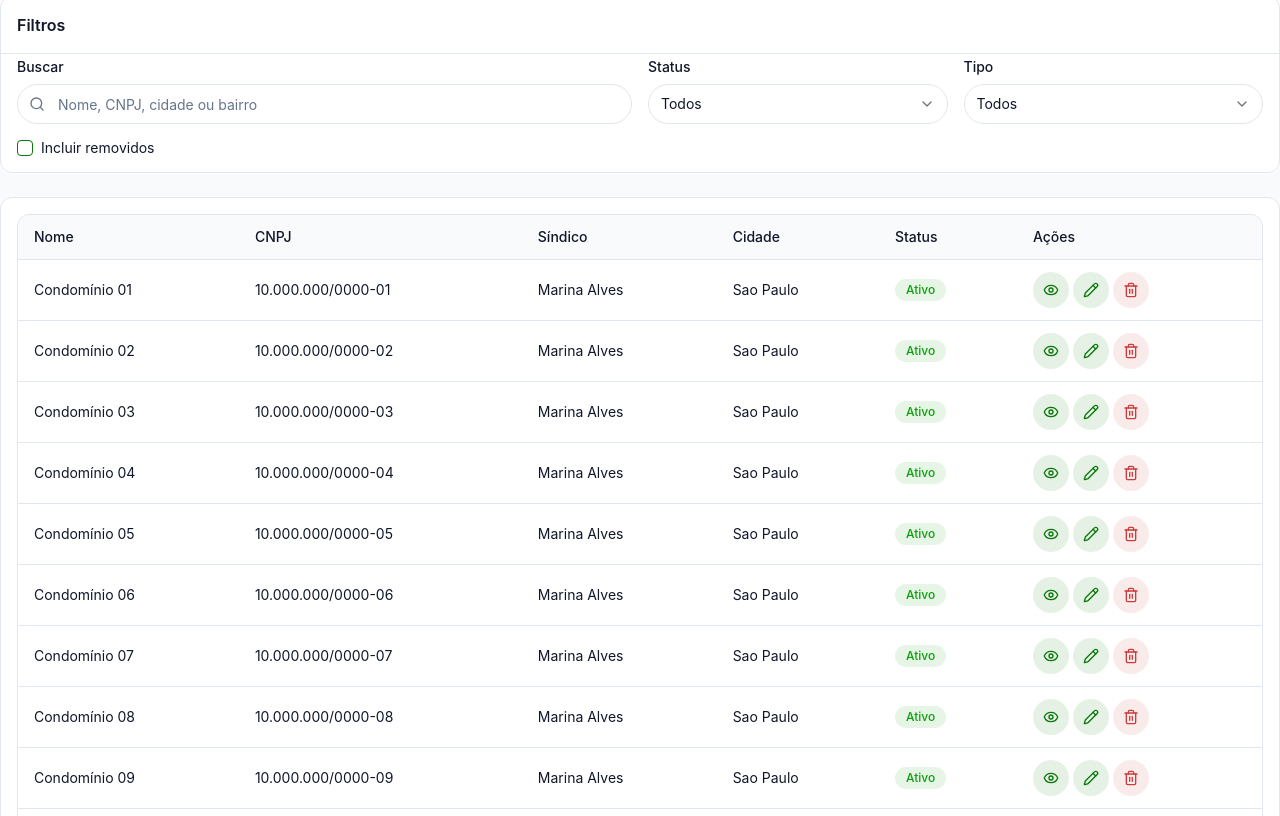
Listagem de condomínios › IT-001: percorre busca, ordenação e paginação preservando os parametros
Expected: the text "Condomínio 01" is shown, [34, 280, 132, 300]
In the field labelled "Buscar": (324, 104) [17, 84, 632, 124], type "Condomínio"
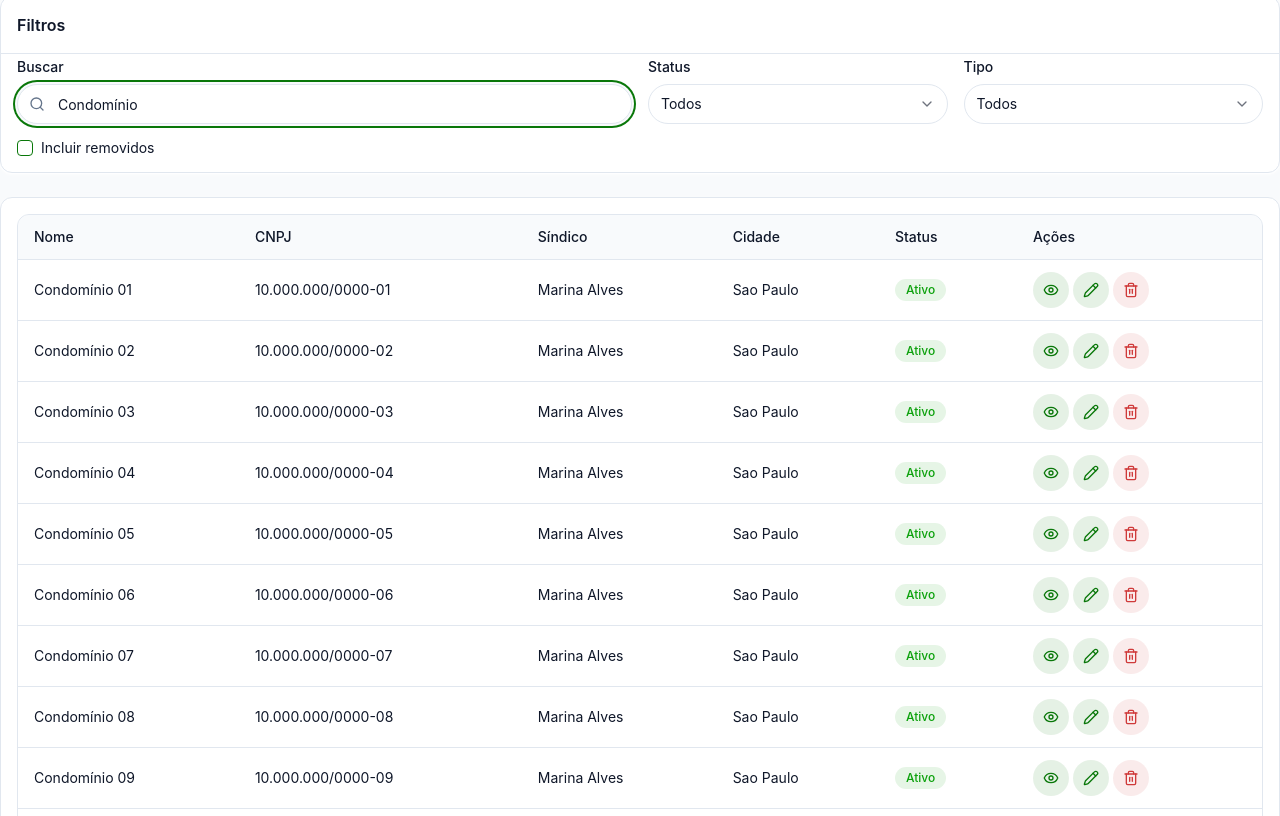
Click the button "Nome": (54, 237) [34, 227, 74, 247]
(page scrolled)
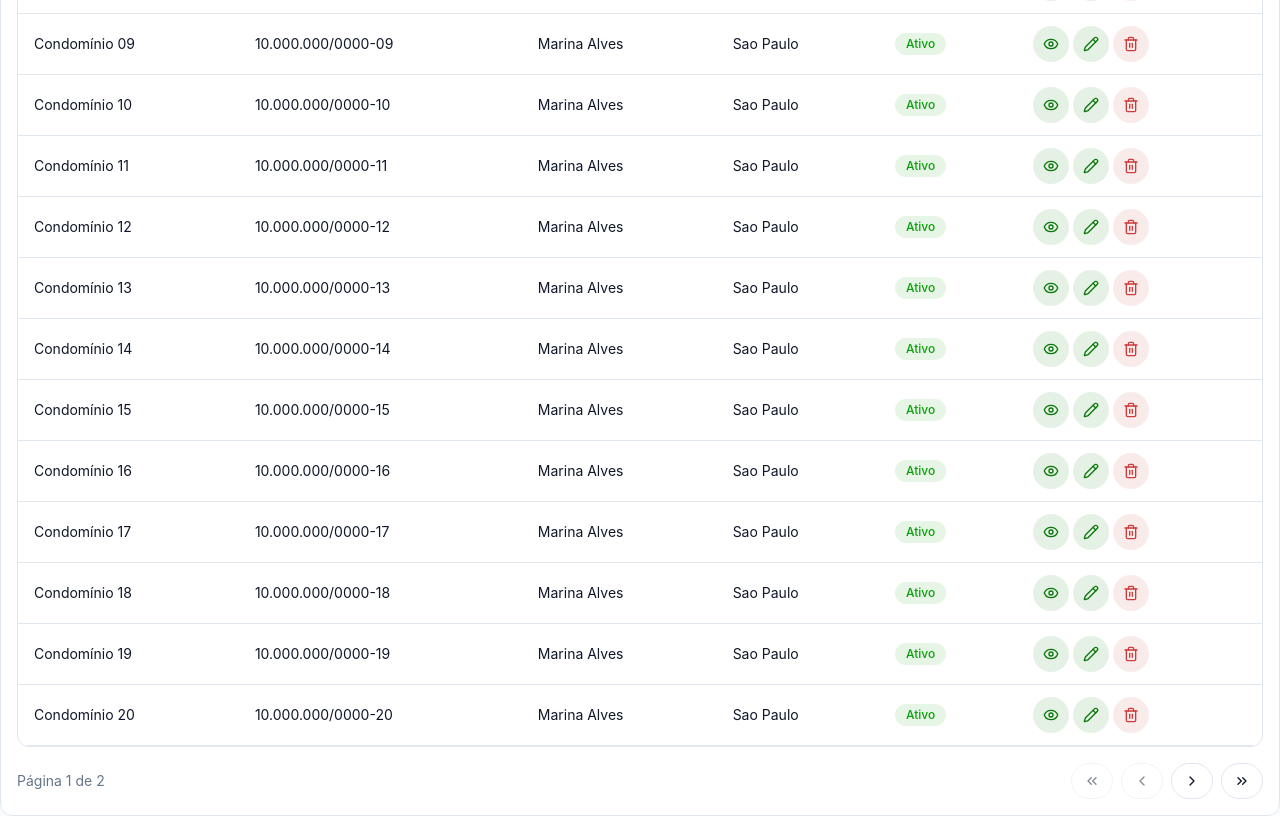
Click the button named "Próxima página": (1192, 781) [1171, 763, 1213, 799]
(page scrolled)
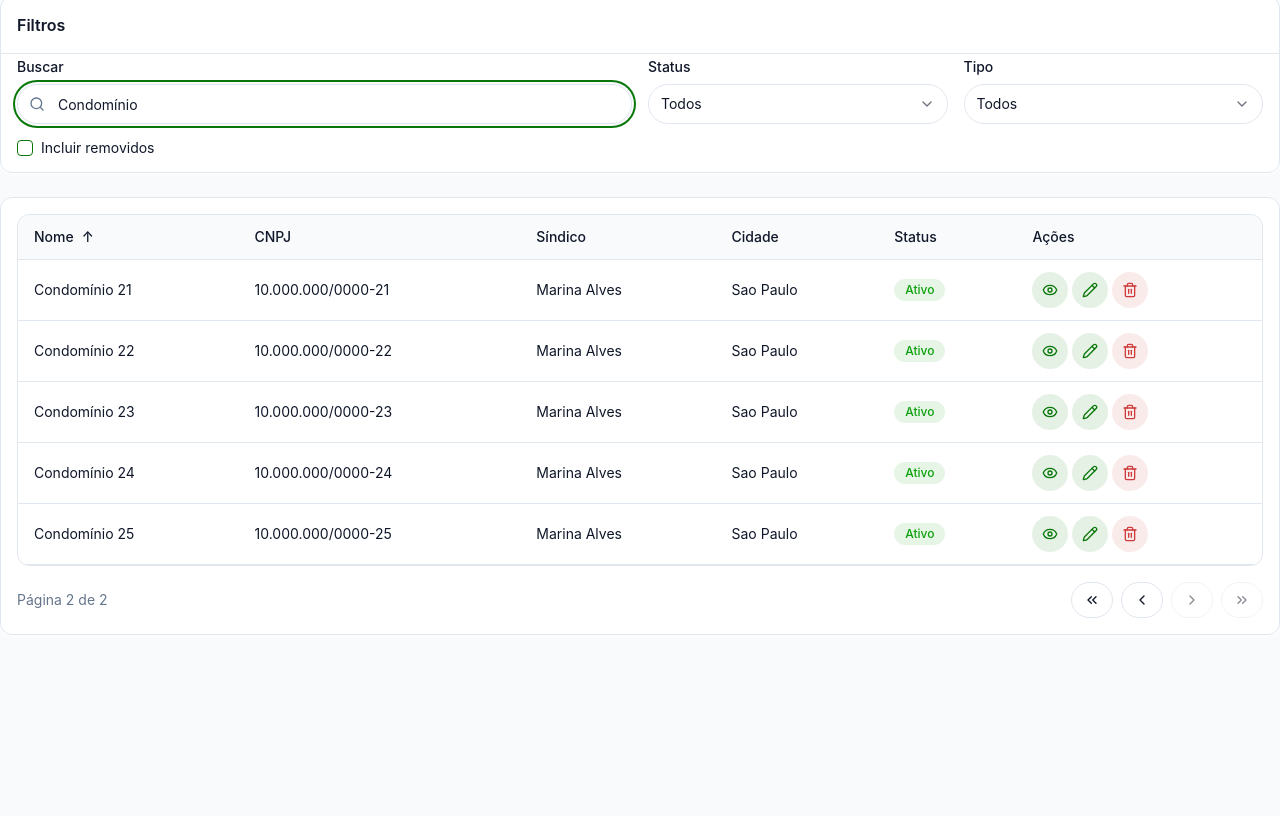
Expected: the text "Condomínio 21" is shown, [34, 280, 132, 300]
